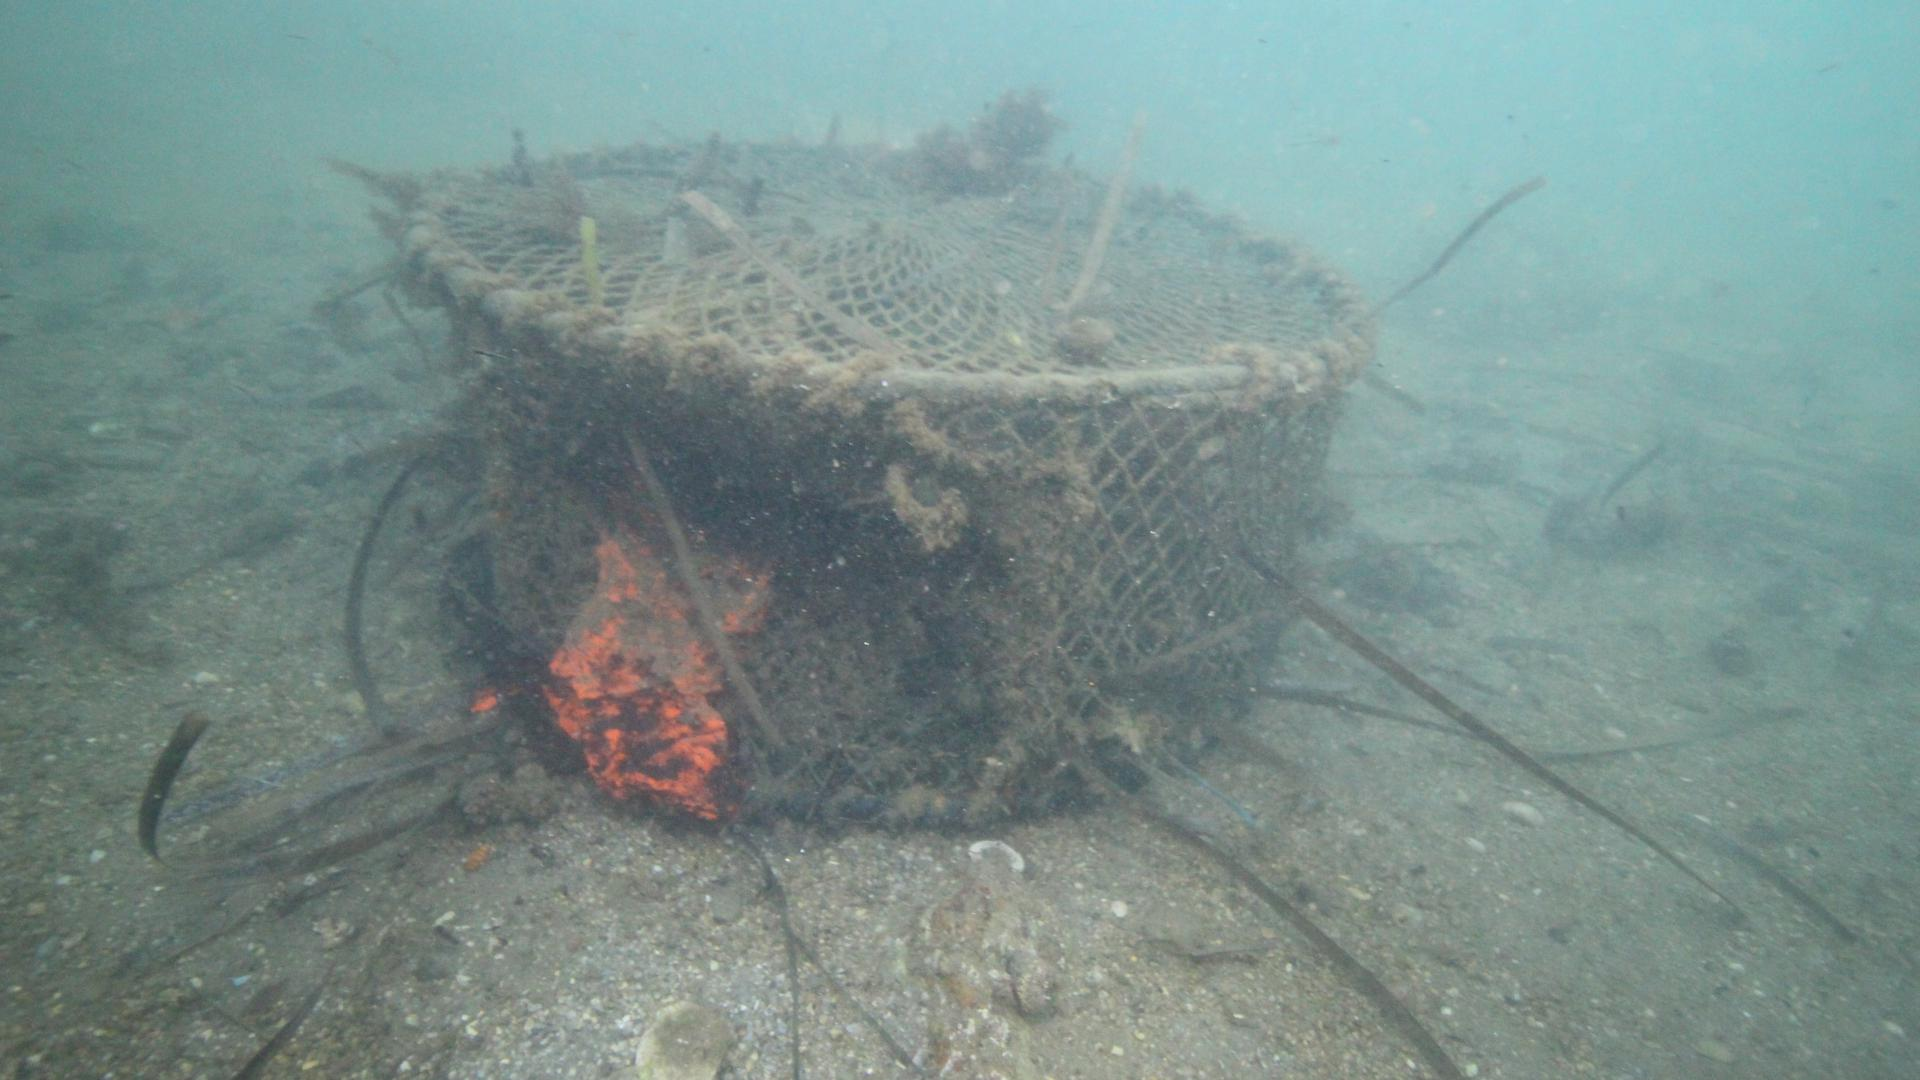circular fish trap: (398, 140, 1375, 829)
